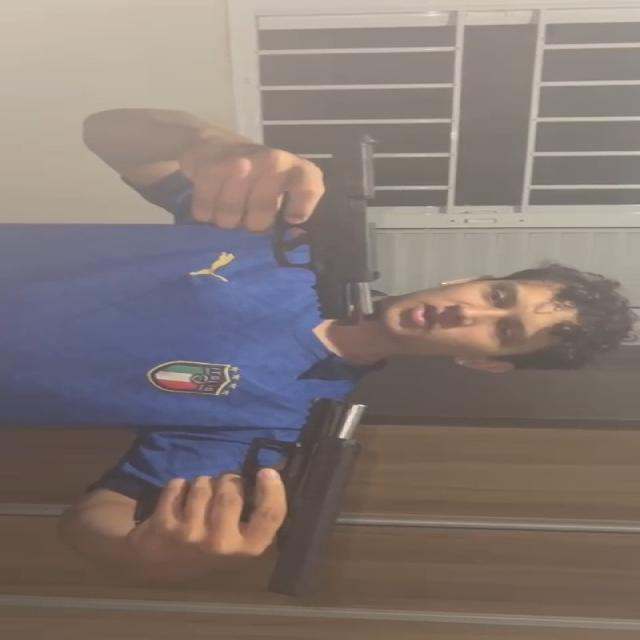gun: (220, 392, 372, 590), (258, 132, 388, 325)
